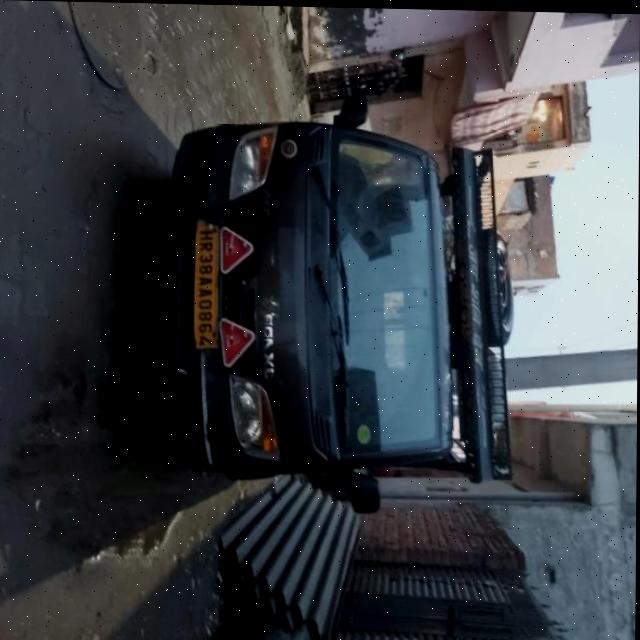plate: (188, 215, 221, 355)
